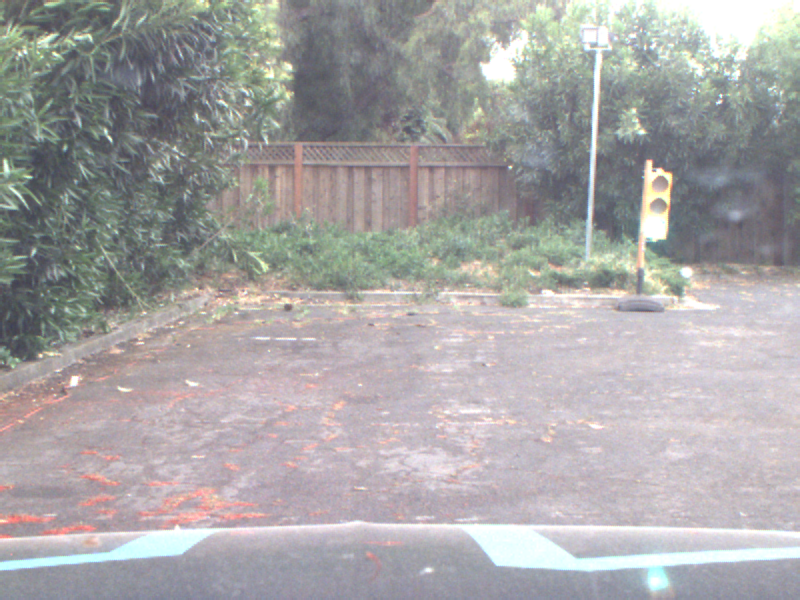Green: (644, 170, 669, 245)
